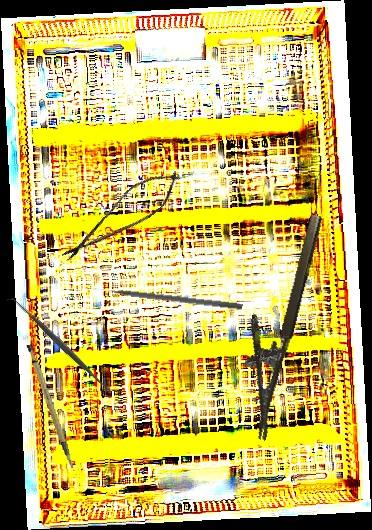Micro Scissor: (54, 159, 190, 274)
Needle Holder: (221, 206, 326, 441)
Pusher: (92, 283, 243, 311)
Scalpel Handle: (24, 340, 75, 473)
Spatula Surgical: (4, 289, 120, 401)
